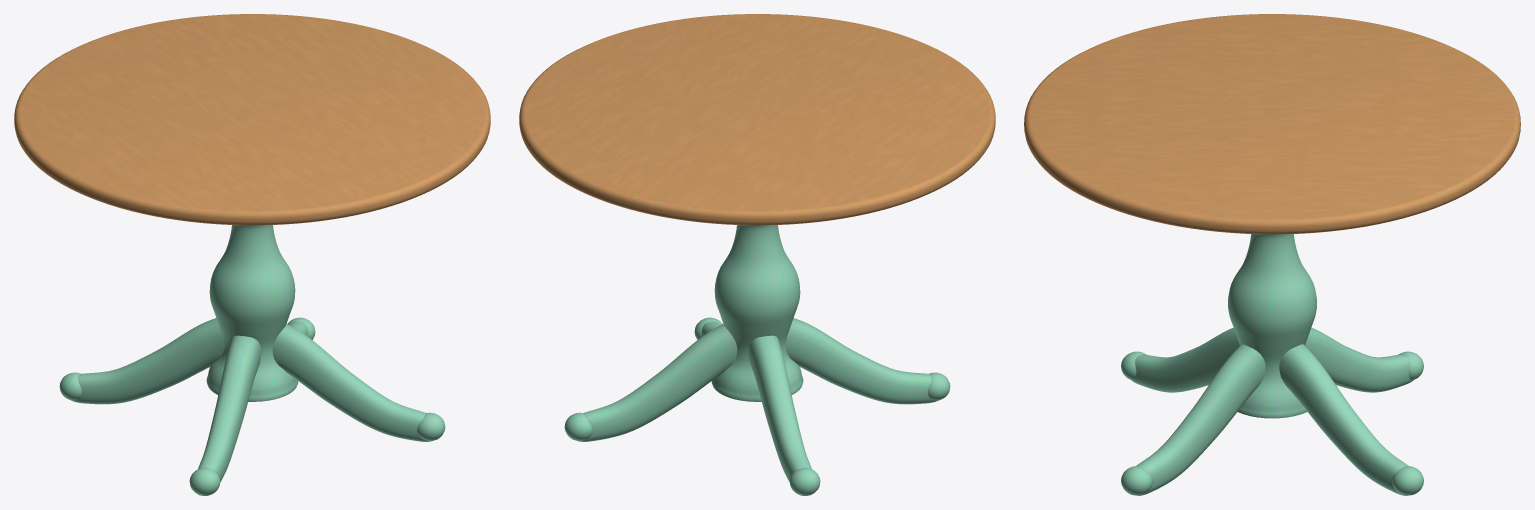
The model's file is round-table.glb.
The picture shows the model from 3 angles, left to right: view 1: azimuth 30°, elevation 25°; view 2: azimuth 150°, elevation 25°; view 3: azimuth 270°, elevation 25°; orthographic projection. The views are drawn at different scales.
Visible parts, largest first — view 1: round-table_body; view 2: round-table_body; view 3: round-table_body.
Part boxes in pixels (bbox=[...]): round-table_body: bbox=[14, 14, 490, 495]; round-table_body: bbox=[519, 14, 995, 495]; round-table_body: bbox=[1024, 14, 1520, 495].
Bounding box in the file's own units: 1.05 × 0.75 × 1.05.
1 material, 1 textured.
